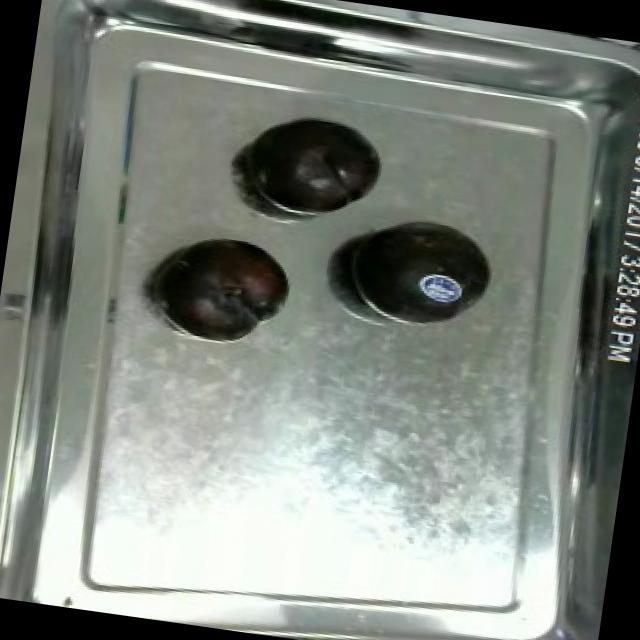Fruit: (332, 202, 503, 340), (241, 105, 390, 223), (153, 226, 298, 347), (0, 527, 17, 599)
